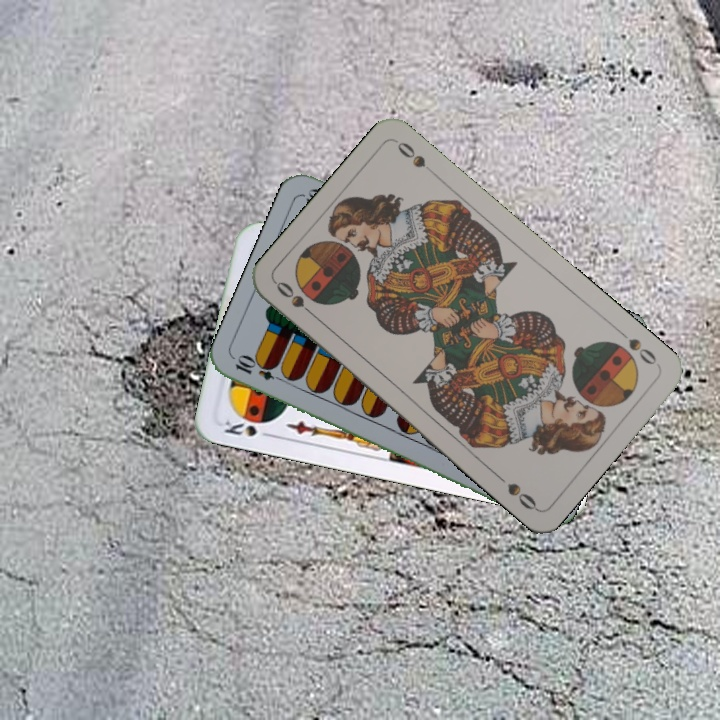E10: (231, 353, 289, 385)
SK: (218, 416, 277, 440)
SO: (272, 277, 321, 322), (614, 325, 660, 368)
